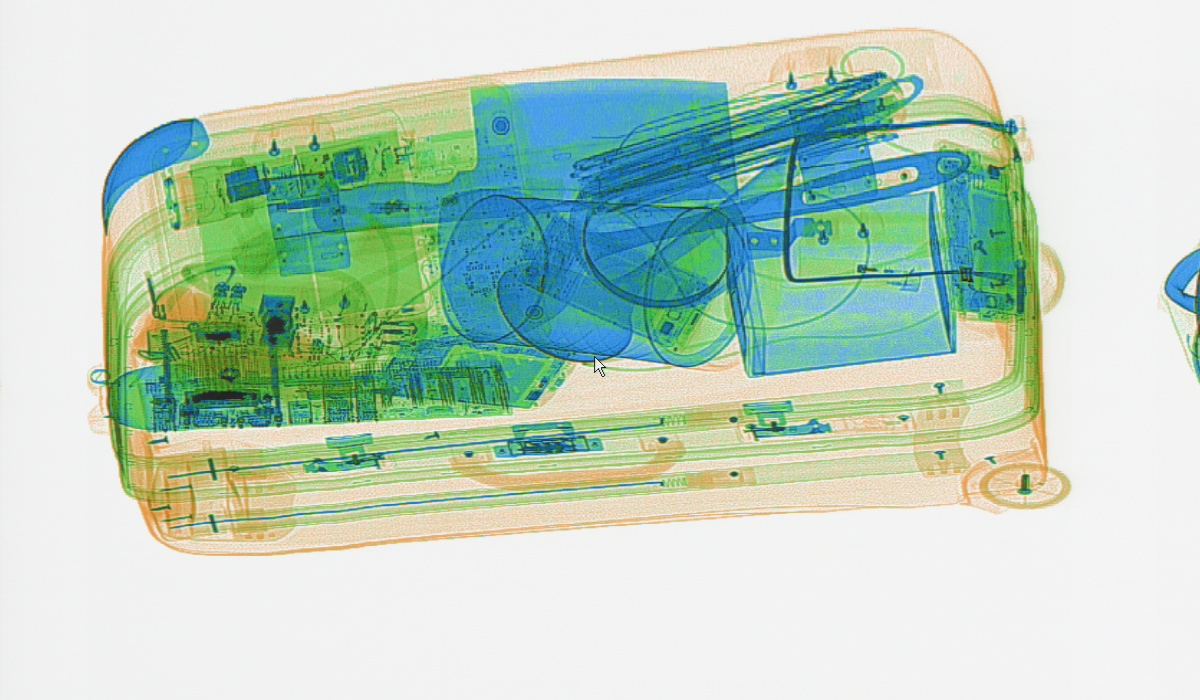knife: (307, 73, 740, 232)
